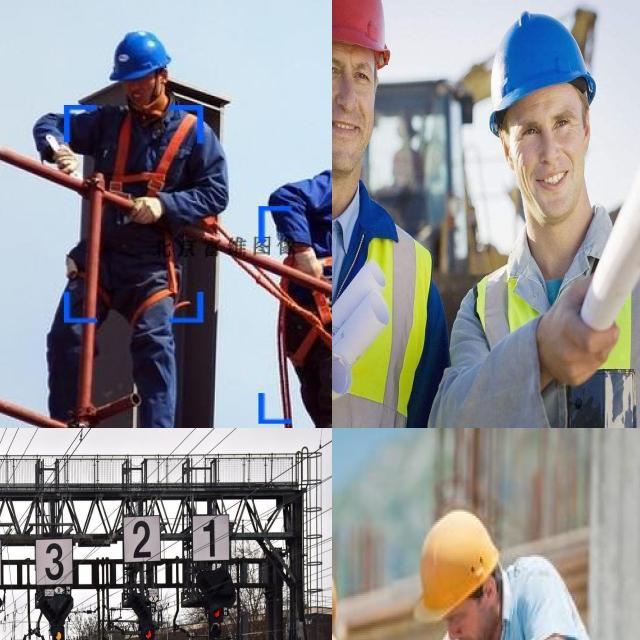Harness: (70, 103, 201, 334)
No_Ear-Protection: (421, 509, 504, 640), (498, 126, 518, 174), (578, 98, 592, 158)
No_Glasses: (492, 108, 596, 147), (332, 47, 383, 94)
face_nomask: (499, 94, 599, 213), (332, 46, 378, 165)
hand_noglove: (533, 276, 622, 392)
head_helmet: (486, 3, 600, 132), (332, 0, 392, 62)
person: (430, 5, 640, 428), (332, 0, 449, 428)
vest: (468, 250, 640, 428), (332, 186, 428, 428)
